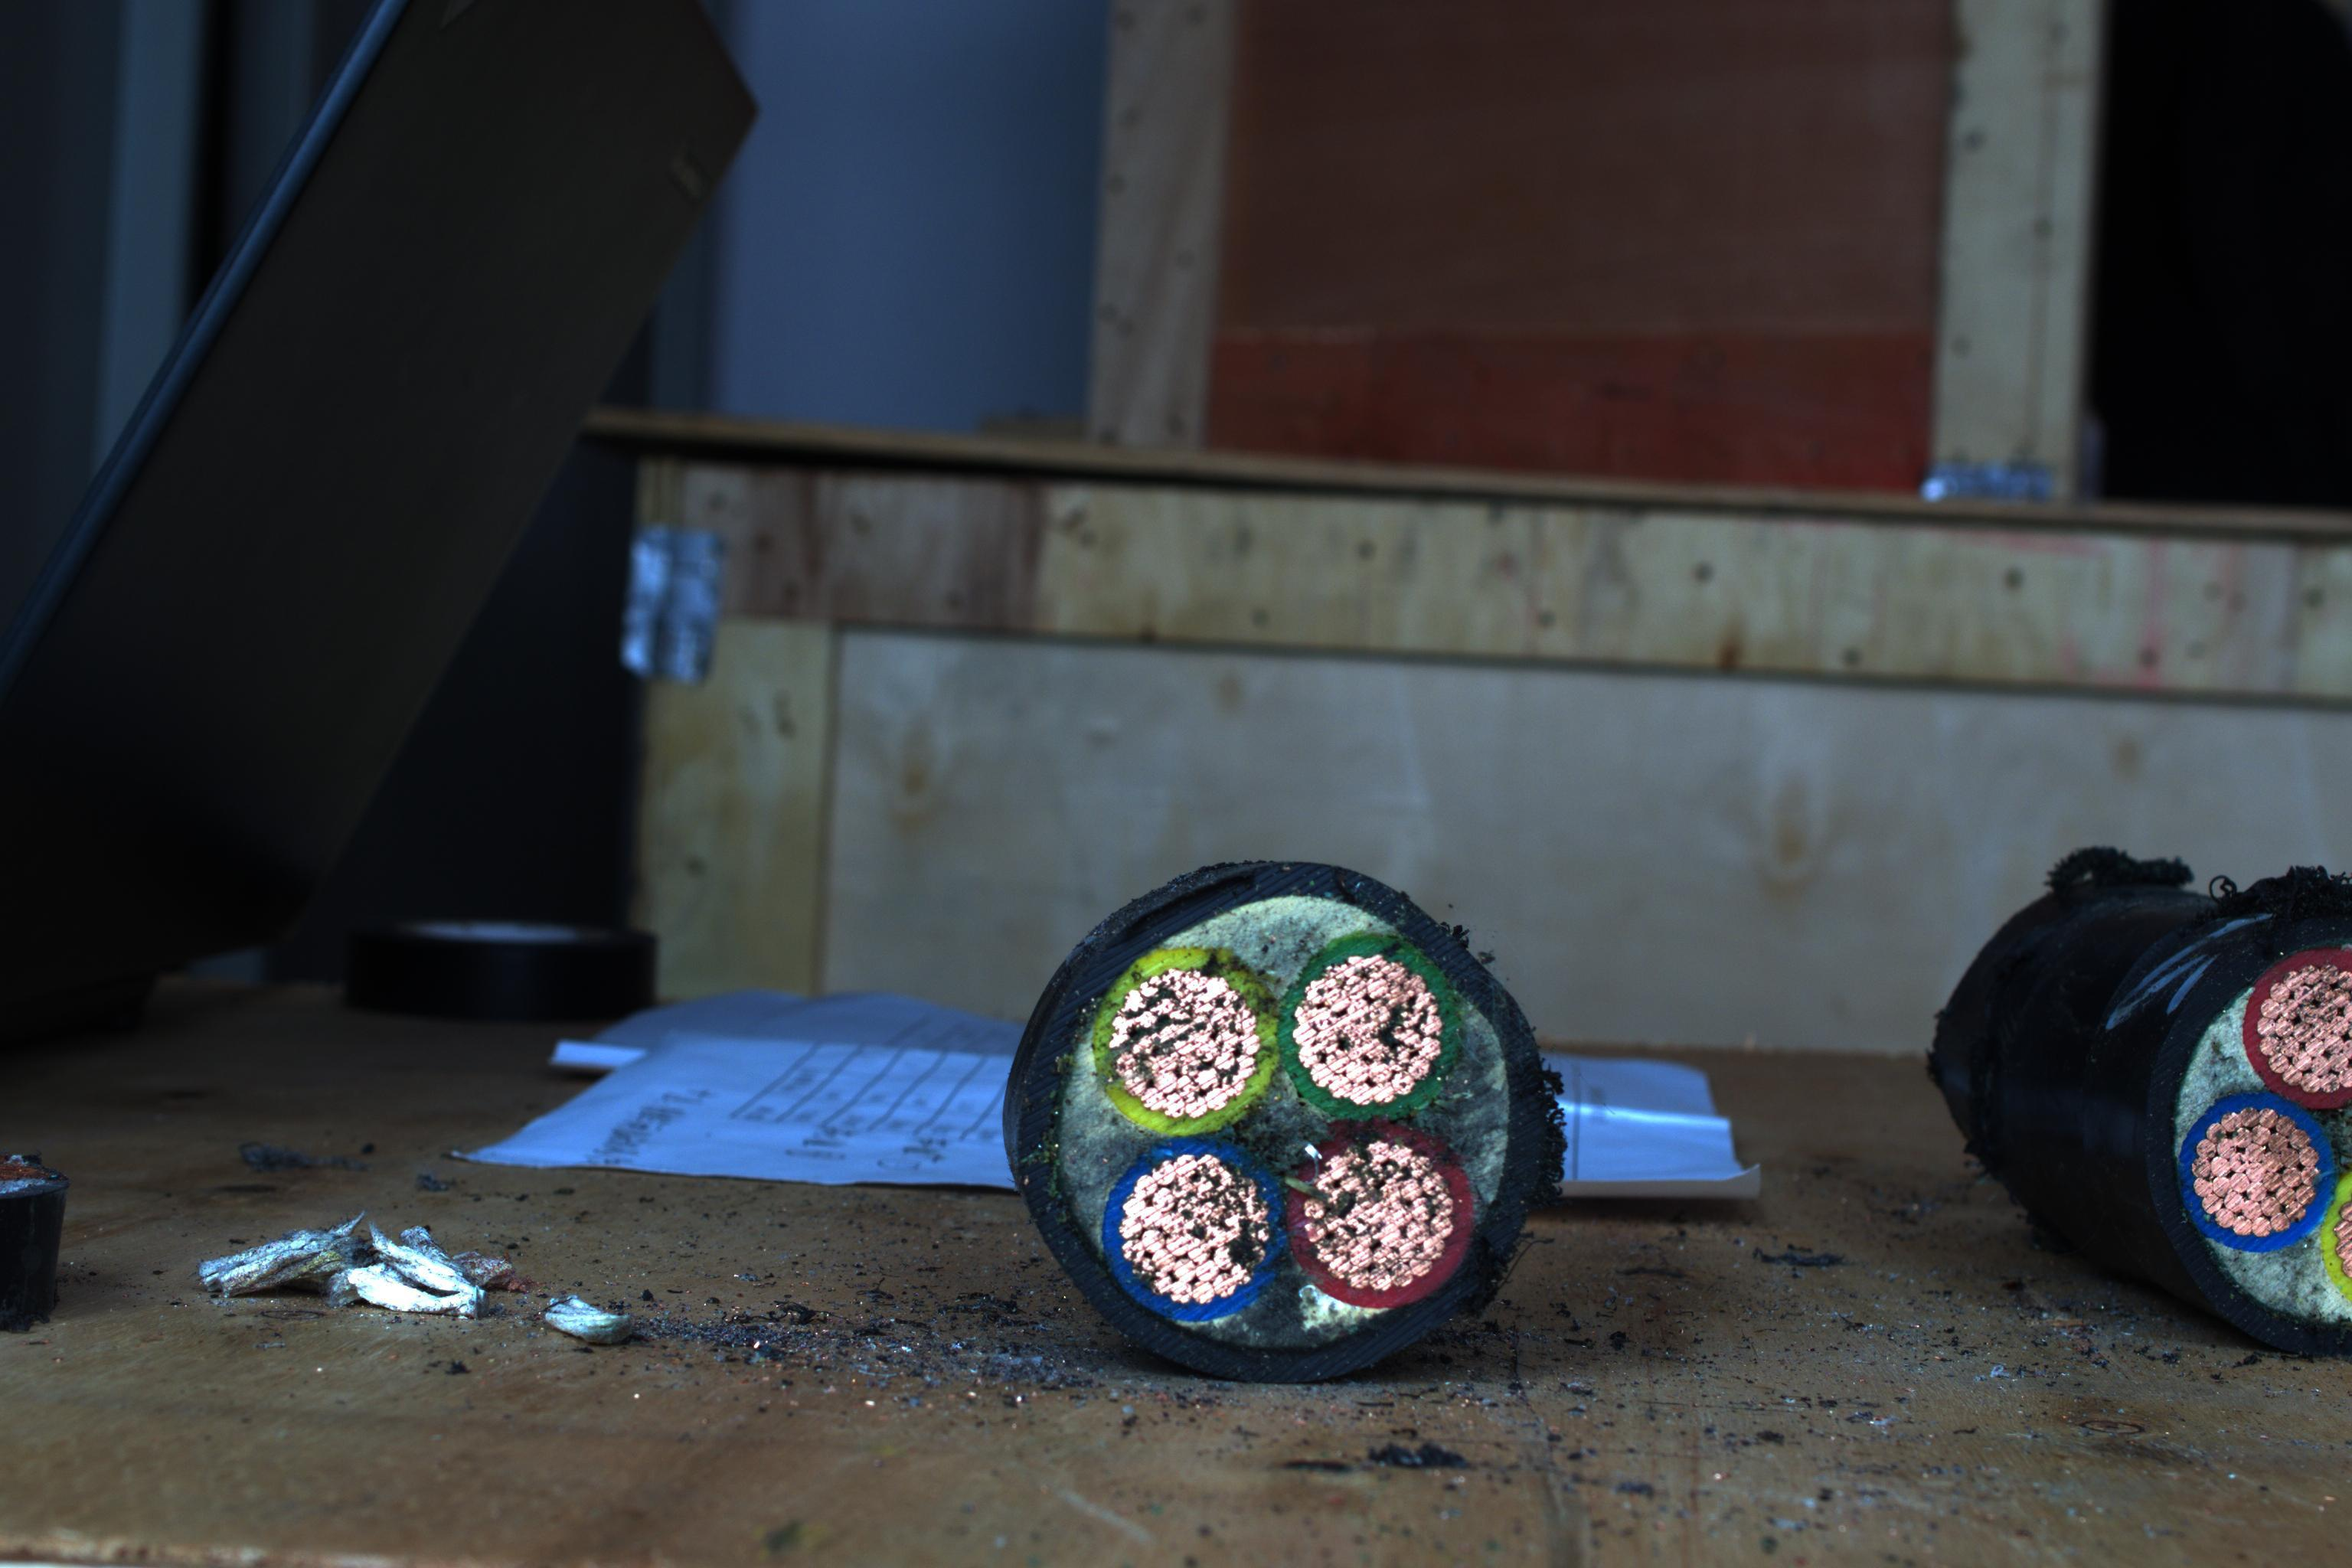YJV_0.6_1kV_4x185: (1029, 868, 1524, 1374)
